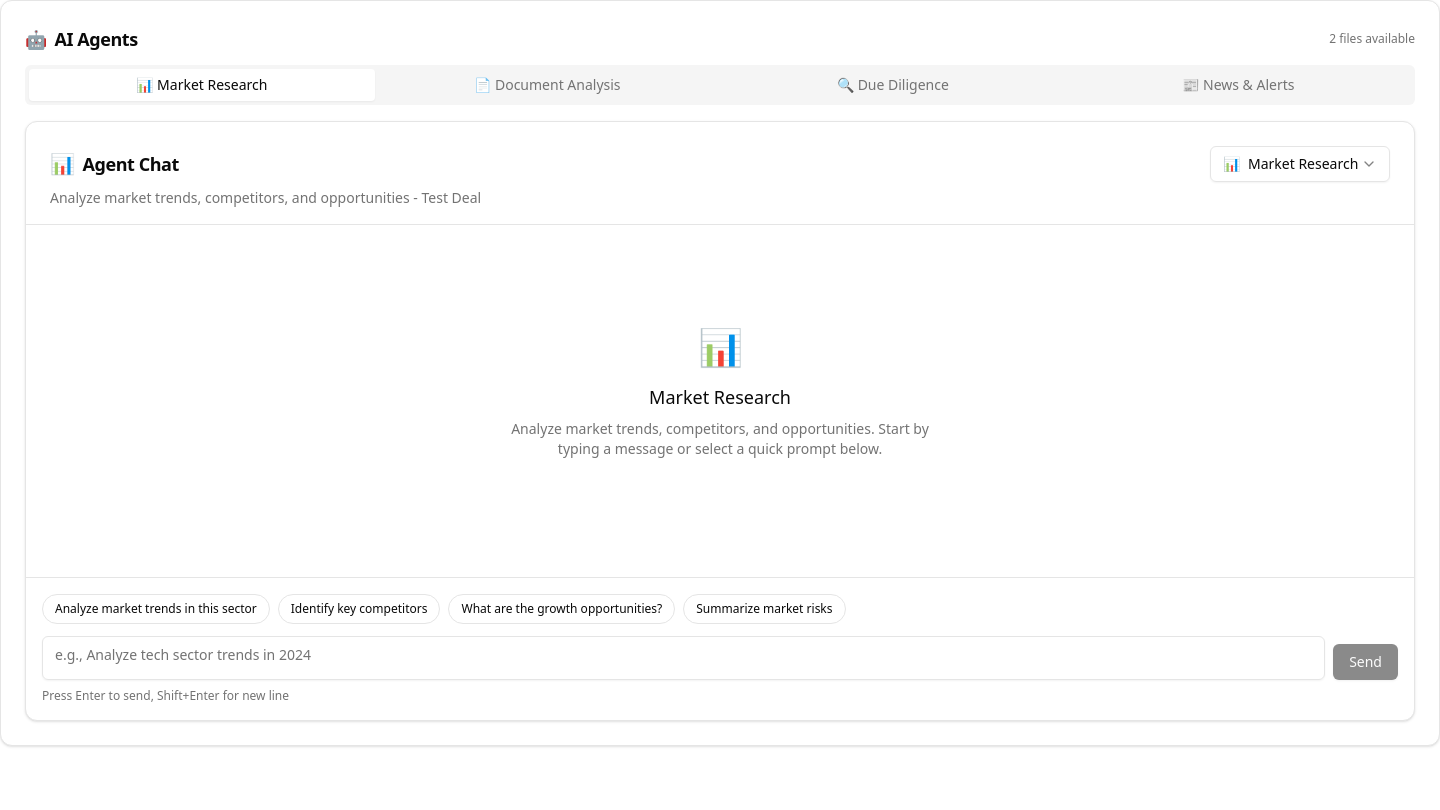
Test: Deal Detail Page - Agent Integration › AgentPanel integration › shows quick file actions when on Document Analysis tab
What coordinates should you click on to do the following:
click the tab "📄 Document Analysis"
I would click on:
 (547, 85)
Its box is [374,69,720,101].
(page scrolled)
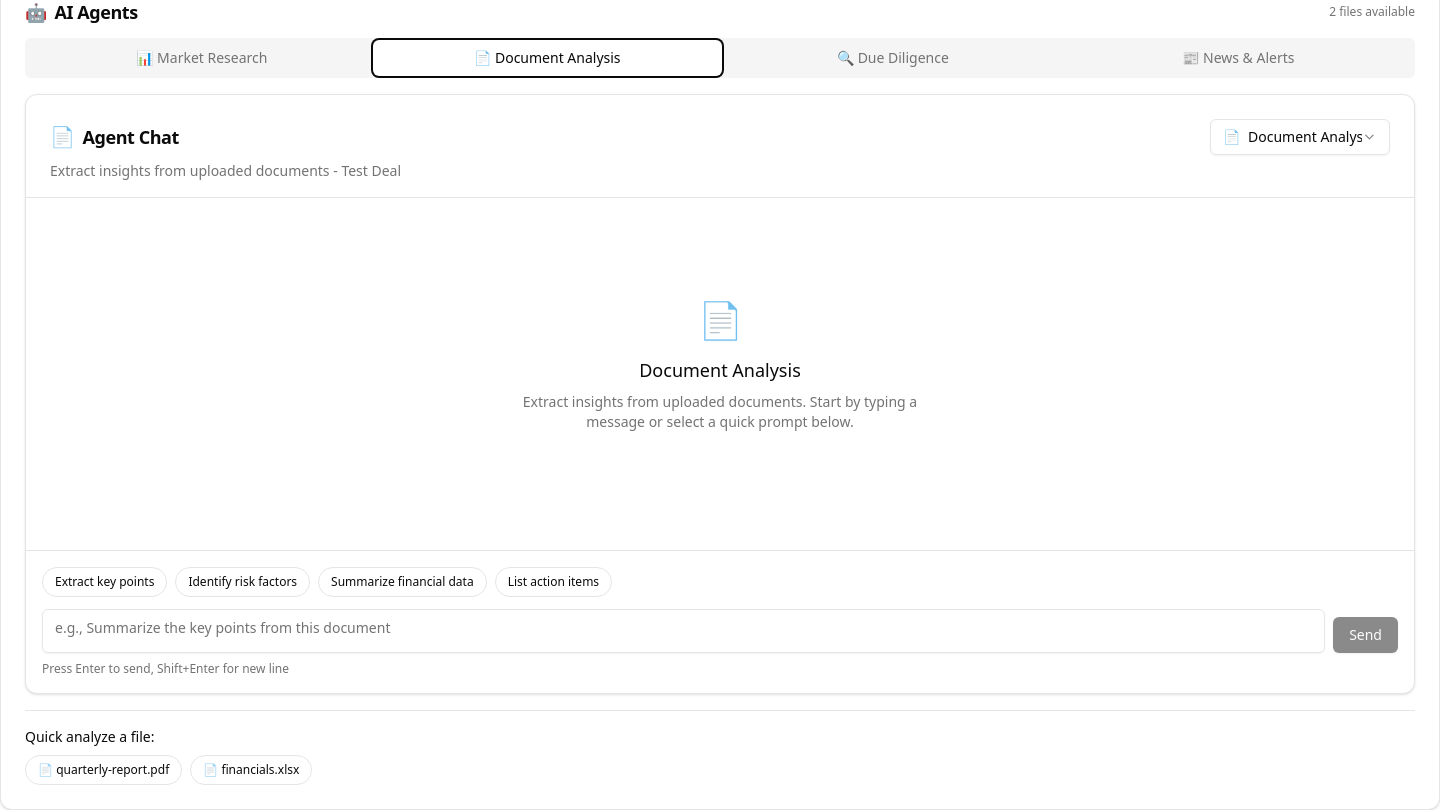
Expected: the text "Quick analyze a file:" is shown, [25,727,154,746]
Expected: the button "📄 quarterly-report.pdf" is shown, [25,755,182,785]
